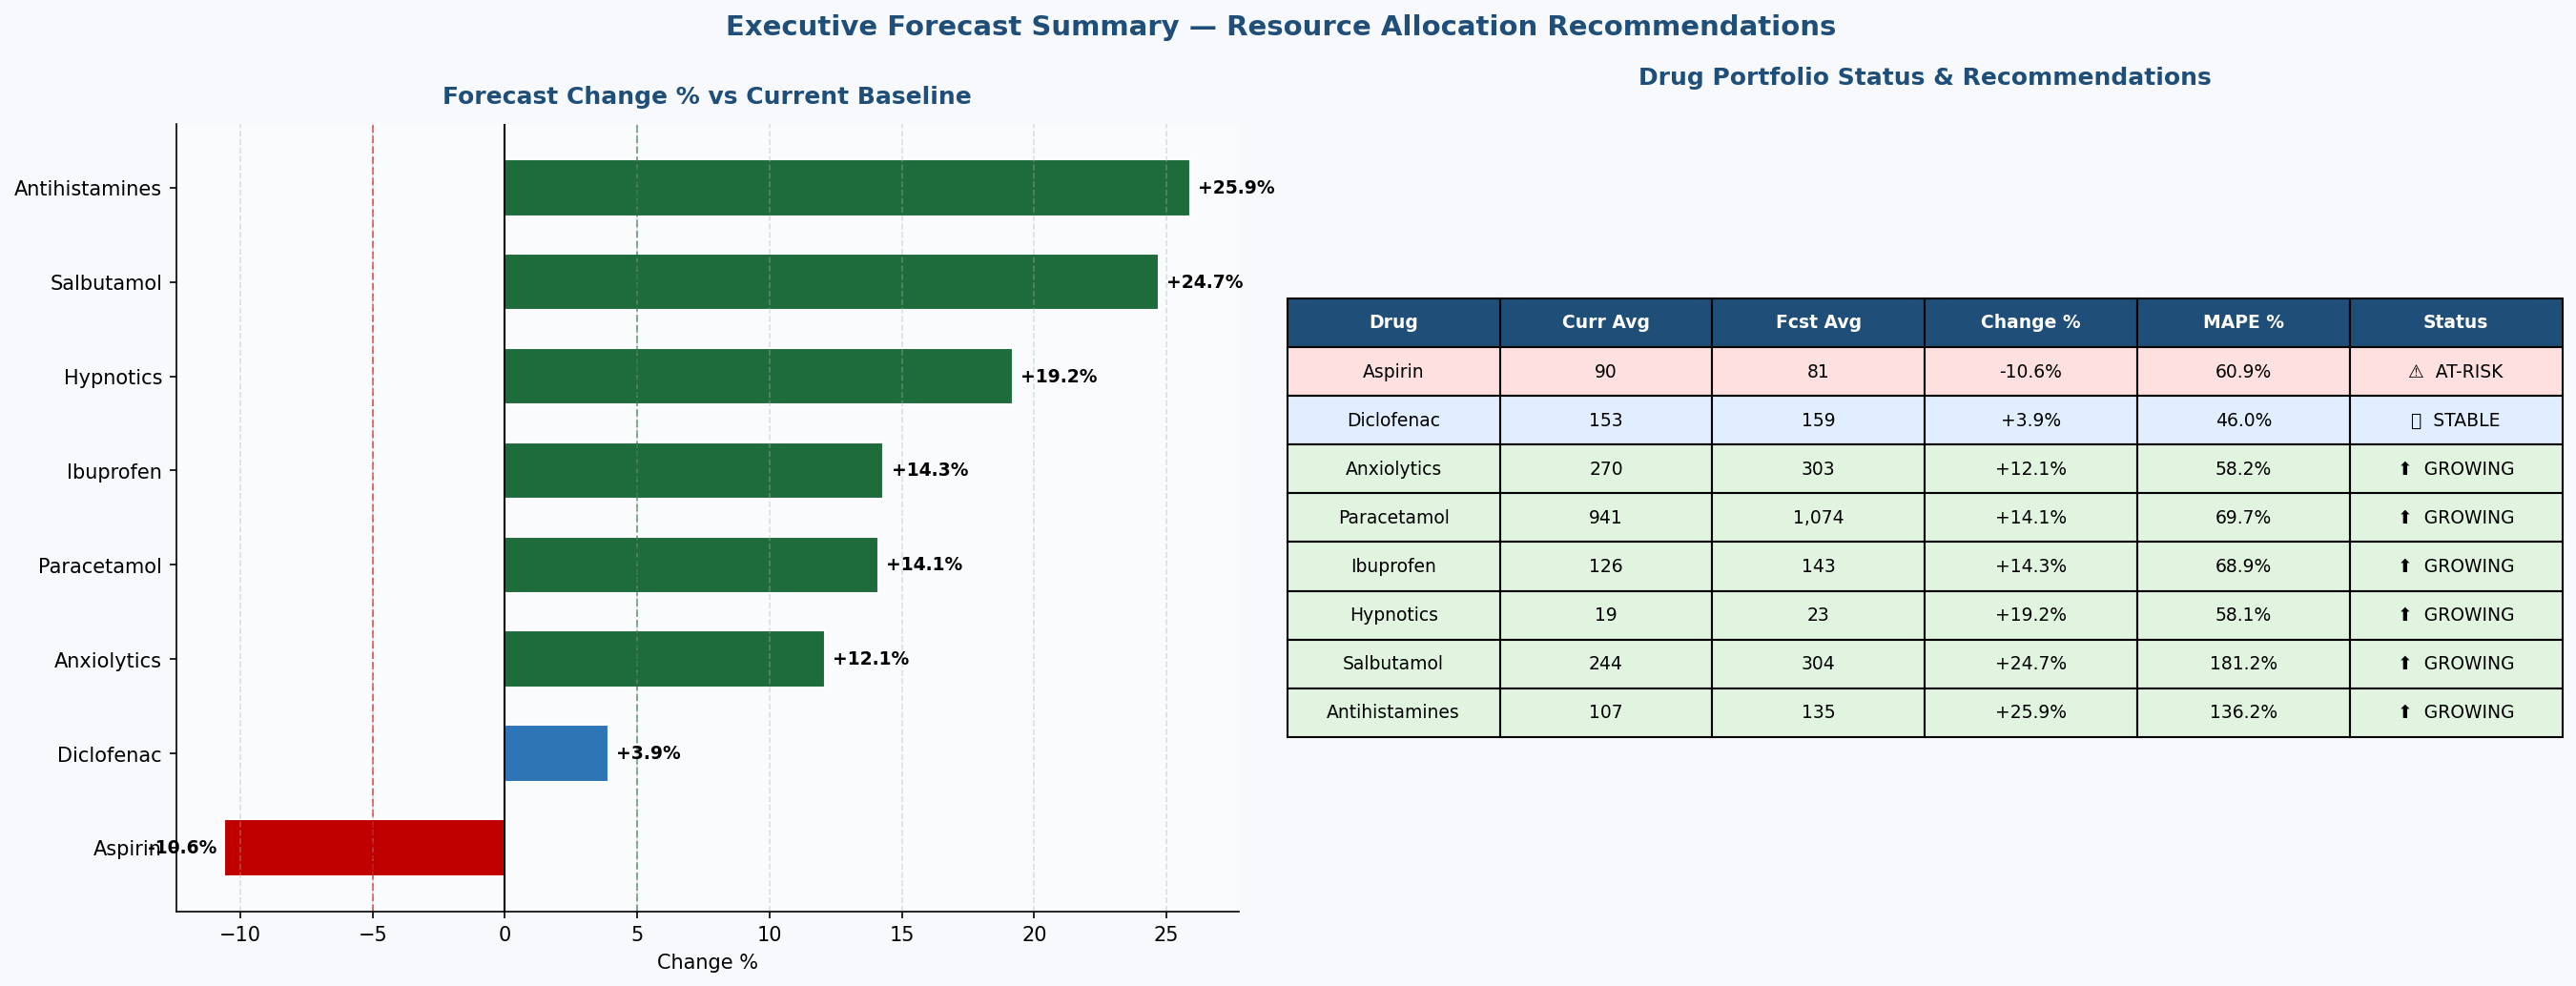

This screenshot's page, from the dashboard's own definition file:
{"tool":"powerbi","page":{"name":"Forecast and Recommendations","canvas":[1280,720],"ordinal":2},"visuals":[{"type":"card","title":"Total Drugs Tracked","fields":{"Values":["CountNonNull(forecast_results.Drug)"]},"box":[126.6,1.3,170.5,131.7],"z":0},{"type":"card","title":"Average Forecast Sales","fields":{"Values":["Avg(forecast_results.Forecast Avg)"]},"box":[876.5,2.5,190.6,130.4],"z":1},{"type":"card","title":"Average Forecast Growth %","fields":{"Values":["Avg(forecast_results.Change %)"]},"box":[460.2,3.8,229.5,129.2],"z":2},{"type":"clusteredBarChart","title":"Forecast Change %  vs Current Baseline","fields":{"Category":["forecast_results.Drug"],"Y":["Sum(forecast_results.Change %)"]},"box":[221.9,132.9,667.1,307.2],"z":3},{"type":"tableEx","fields":{"Values":["forecast_results.Drug","Sum(forecast_results.Current Avg)","Sum(forecast_results.Forecast Avg)","Sum(forecast_results.Change %)","Sum(forecast_results.MAPE %)","forecast_results.Status"]},"box":[221.9,480.3,685.9,239.5],"z":4}]}

Visuals, with their boxes on the page's 1280x720 design canvas (x1, y1, x2, y2). These are canvas units, not pixel positions in the 2576x986 screenshot, which may show the page scaled, cropped or inside an application window:
"Total Drugs Tracked" card: rect(127, 1, 297, 133)
"Average Forecast Sales" card: rect(876, 2, 1067, 133)
"Average Forecast Growth %" card: rect(460, 4, 690, 133)
"Forecast Change %  vs Current Baseline" clusteredBarChart: rect(222, 133, 889, 440)
tableEx - forecast_results.Drug x Sum(forecast_results.Current Avg): rect(222, 480, 908, 720)
